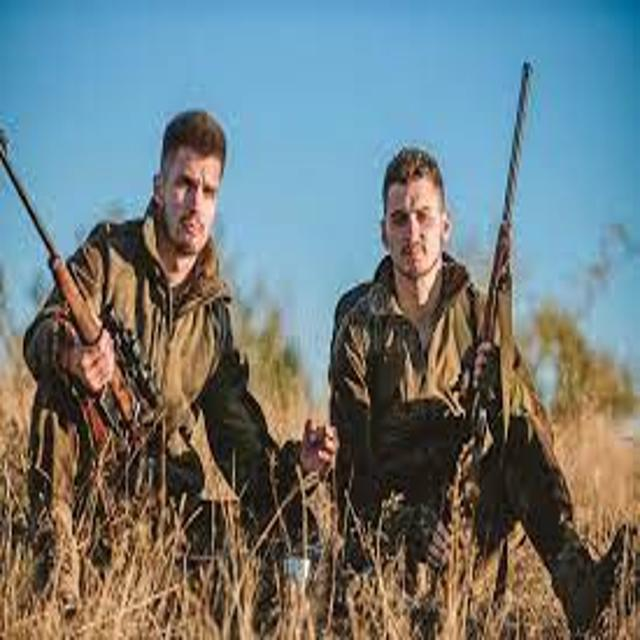gun: (370, 51, 572, 599), (1, 131, 220, 524)
poacher: (269, 121, 638, 639), (1, 94, 351, 633)
